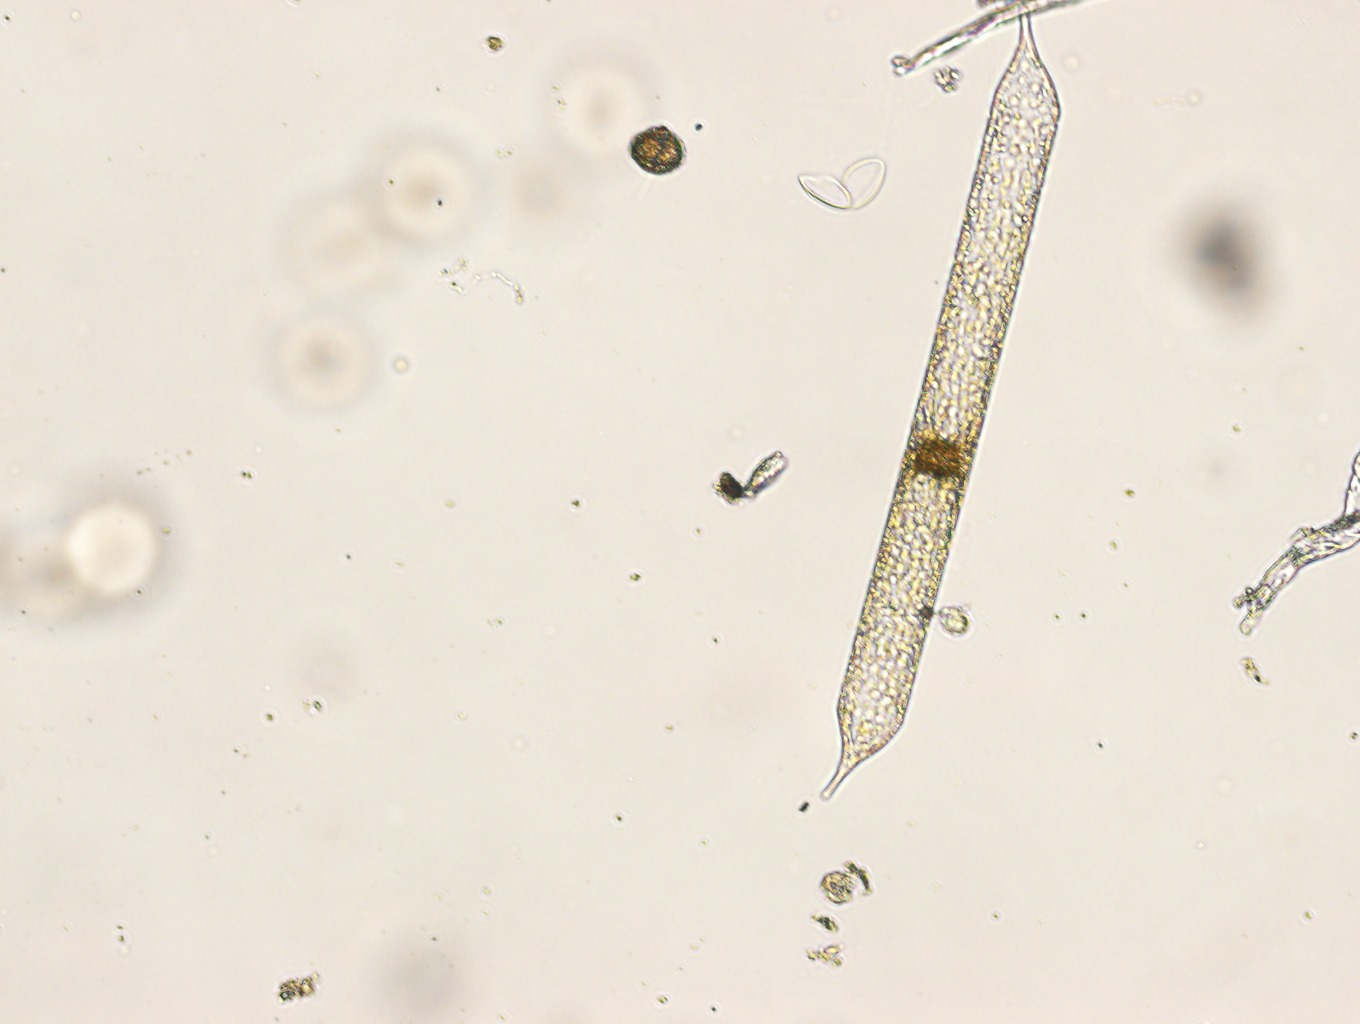rhizosolenia: (824, 5, 1062, 799)
